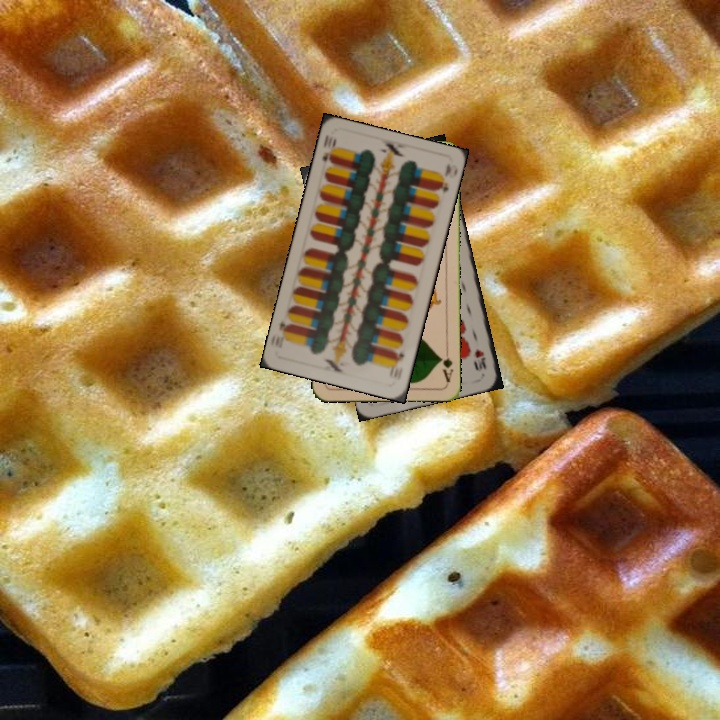E10: (318, 134, 339, 166), (390, 349, 407, 380)
GA: (436, 344, 456, 385)
H10: (470, 345, 489, 374)
